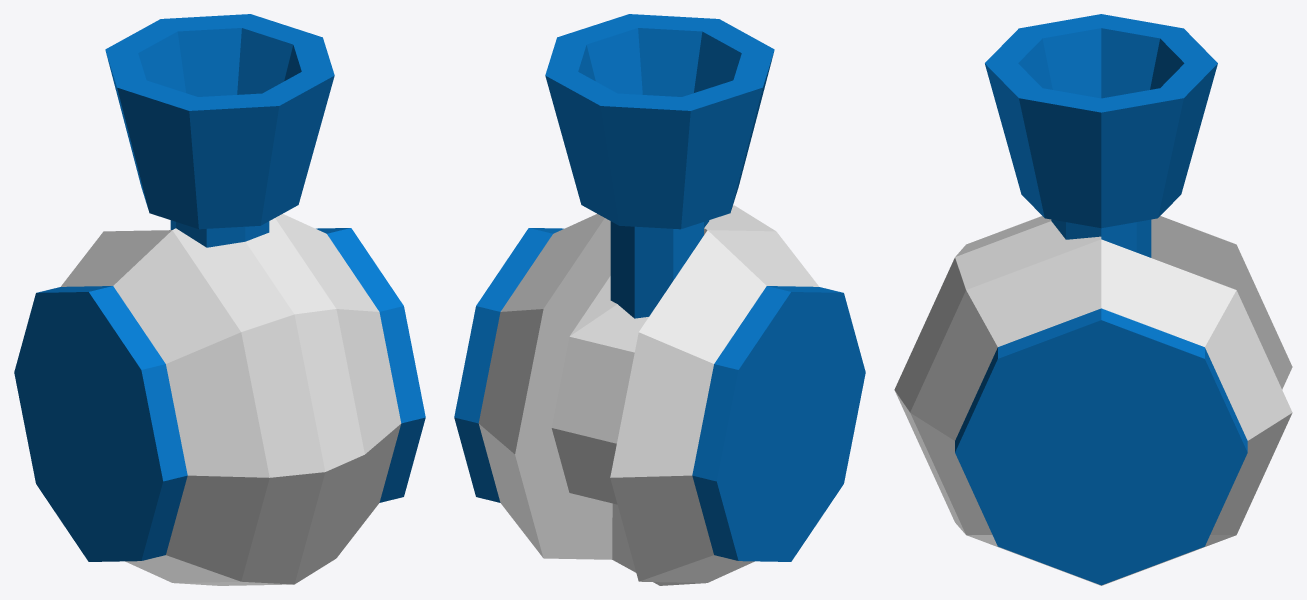
File: MDL_BombTurret.fbx
3 views of the same model, side by side, from view 1: azimuth 30°, elevation 25°; view 2: azimuth 150°, elevation 25°; view 3: azimuth 270°, elevation 25° (orthographic).
Parts seen in each view (by area): view 1: BombTurretBase, BombTurretHead; view 2: BombTurretBase, BombTurretHead; view 3: BombTurretBase, BombTurretHead.
Part boxes in pixels (x1=…): BombTurretBase: x1=14, y1=214, x2=425, y2=585; BombTurretHead: x1=105, y1=14, x2=334, y2=247; BombTurretBase: x1=454, y1=205, x2=865, y2=585; BombTurretHead: x1=545, y1=14, x2=774, y2=318; BombTurretBase: x1=894, y1=216, x2=1292, y2=585; BombTurretHead: x1=985, y1=14, x2=1217, y2=257.
Bounding box in the file's own units: 144 × 274 × 192.
